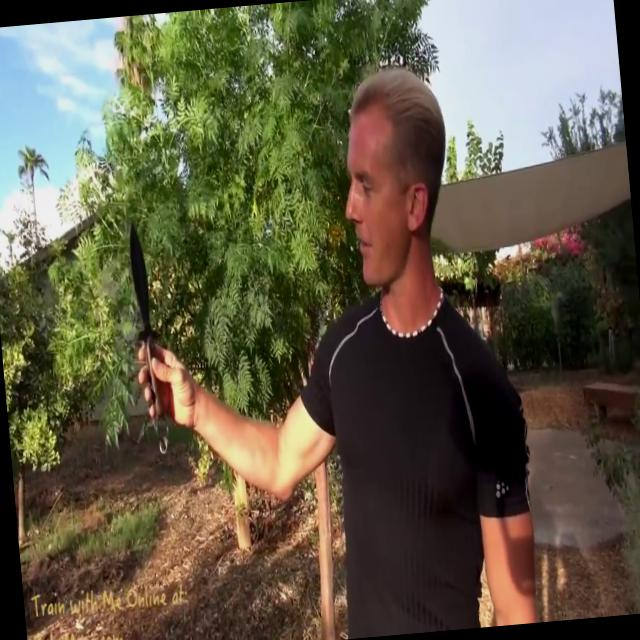knife: (118, 211, 166, 355)
